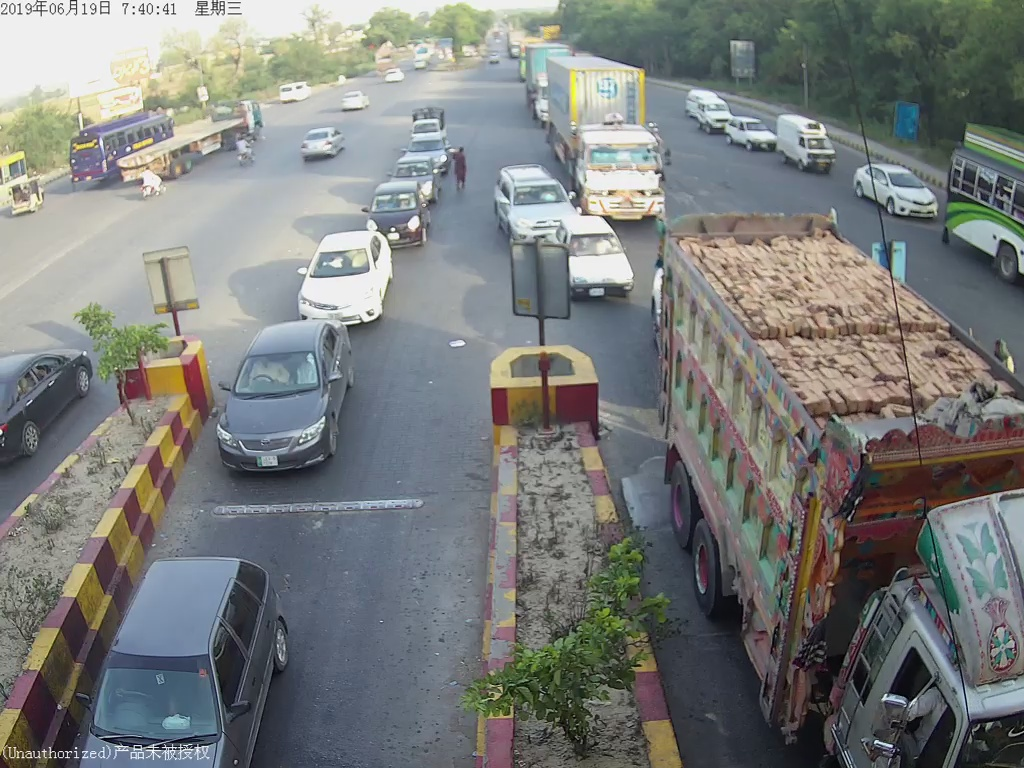Cat-1: (214, 318, 363, 466), (295, 235, 380, 315), (495, 171, 568, 237), (570, 227, 636, 298), (372, 178, 426, 242)
Cat-5: (558, 59, 668, 217)
